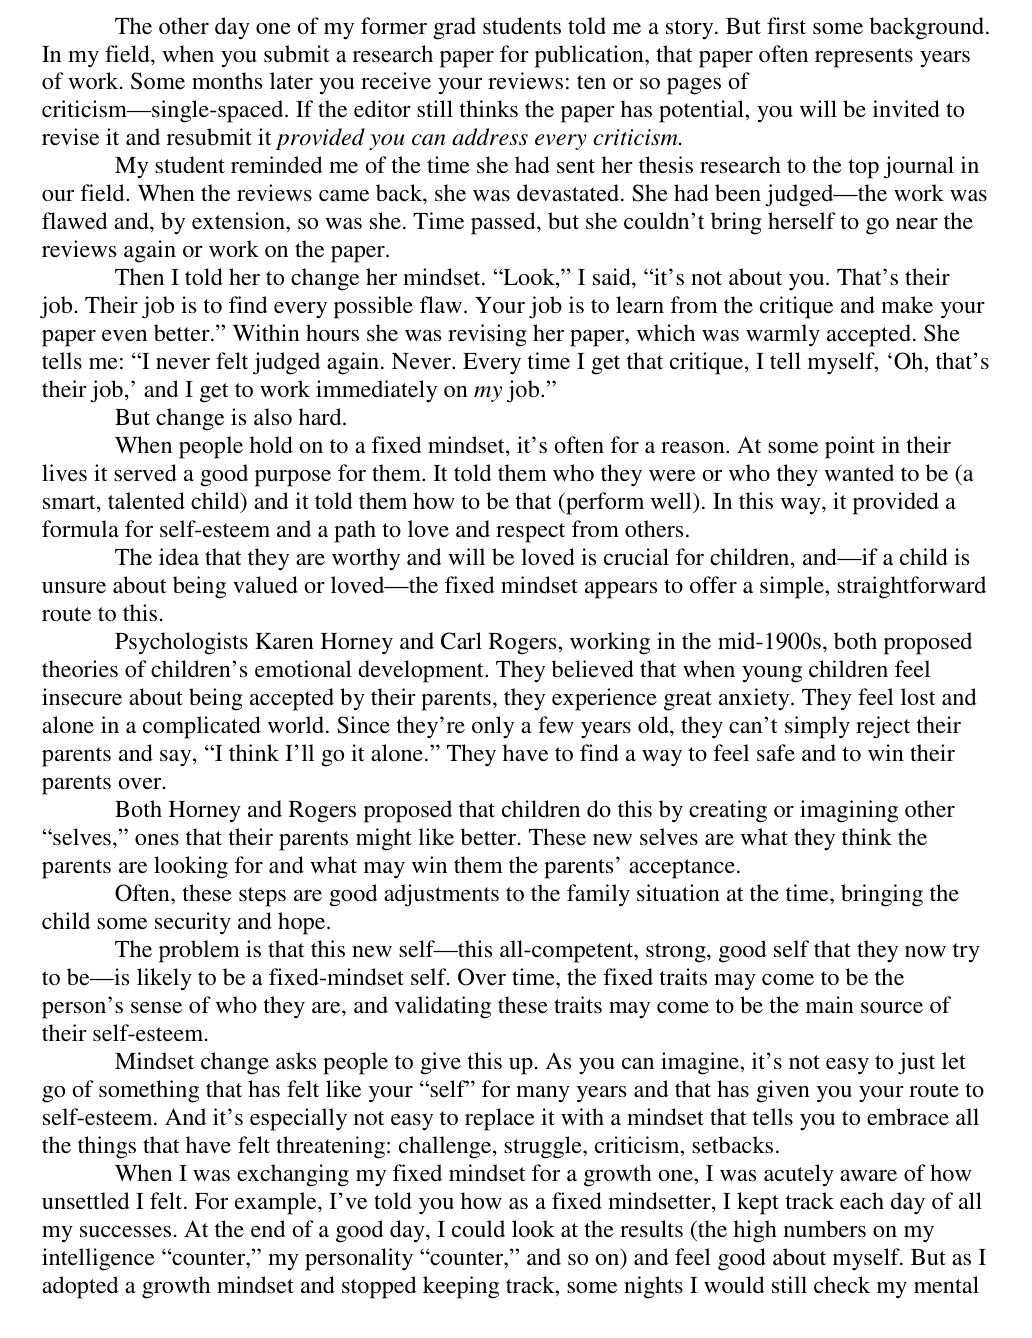latin: (36, 1045, 993, 1305), (26, 794, 983, 1043), (25, 401, 992, 627), (36, 628, 984, 794), (38, 12, 988, 150), (34, 267, 992, 401), (28, 150, 992, 257)
